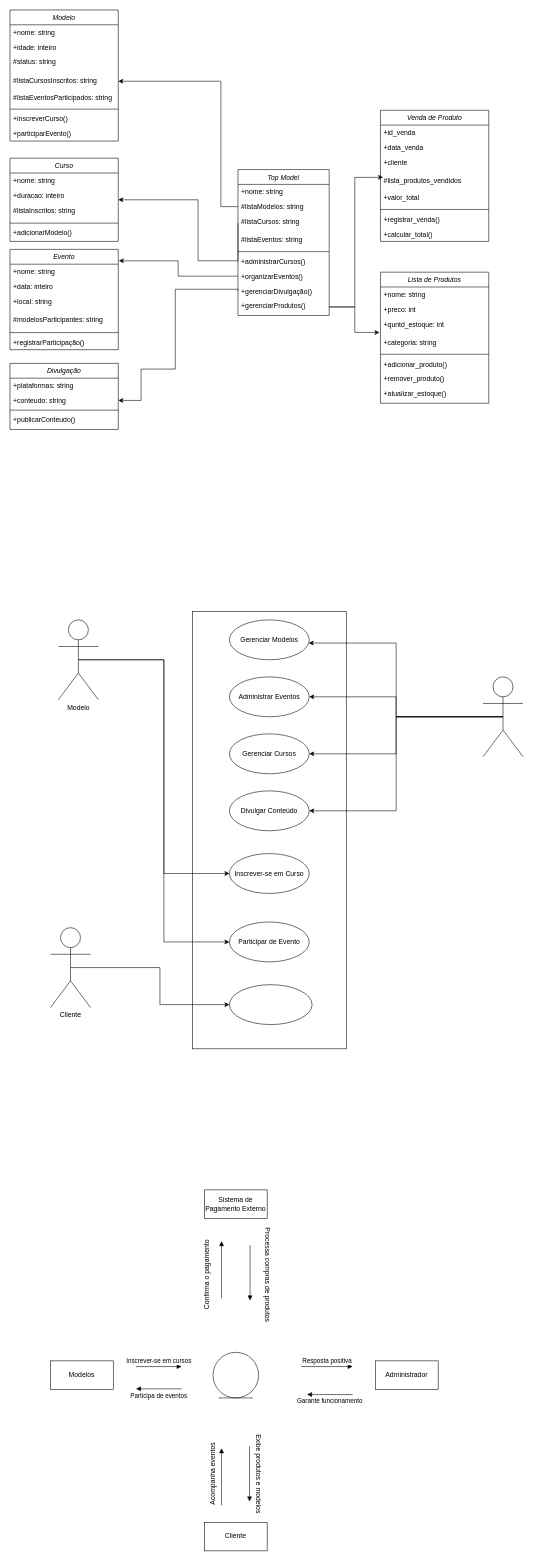
Image size: 533x1561. Some labels were removed from this diagram. Here are the shapes that lost their labels. From the top down, the centre of each, then its label:
At (503,716): "Admistrador".
At (270,1004): "Comprar Produto".
At (235,1375): "Site Top Models Angels".
